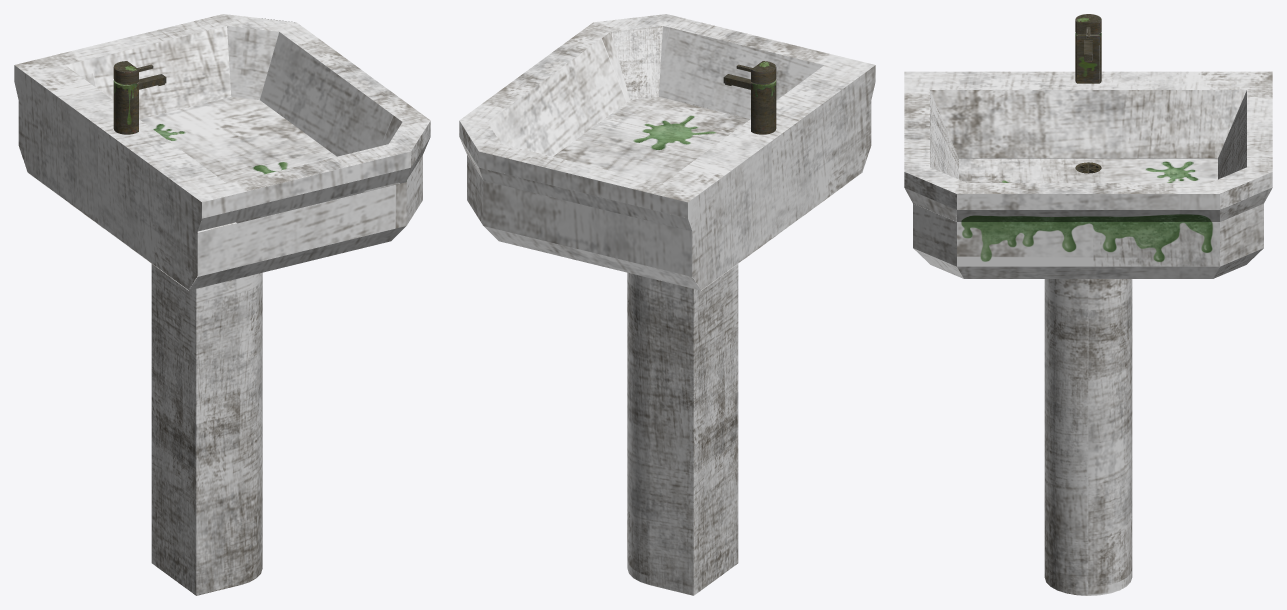
File: Sink.FBX
3 renders of one model, left to right at view 1: azimuth 30°, elevation 25°; view 2: azimuth 150°, elevation 25°; view 3: azimuth 270°, elevation 25°, orthographic.
Parts seen in each view (by area): view 1: Lavabo, Pata, Grifo; view 2: Lavabo, Pata, Grifo; view 3: Lavabo, Pata, Grifo.
Boxes of the visible parts, box(x1,y1,x2,y2) form: Lavabo: box(14, 14, 430, 290); Pata: box(151, 264, 262, 595); Grifo: box(113, 61, 166, 134); Lavabo: box(459, 14, 875, 290); Pata: box(627, 264, 738, 595); Grifo: box(723, 61, 776, 134); Lavabo: box(904, 71, 1272, 278); Pata: box(1044, 279, 1132, 595); Grifo: box(1075, 14, 1101, 83).
Bounding box in the file's own units: 3.3 × 6.47 × 4.2.
4 materials, 4 textured.
